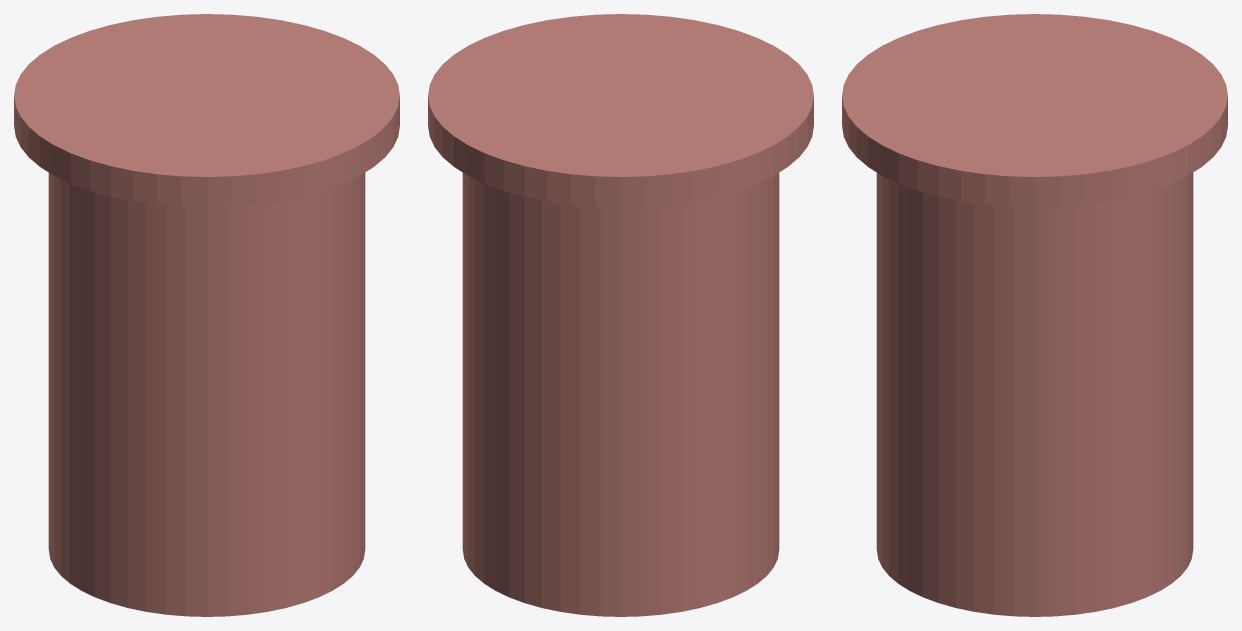
File: eli-side-table-sangria.glb
3 renders of one model, left to right at view 1: azimuth 30°, elevation 25°; view 2: azimuth 150°, elevation 25°; view 3: azimuth 270°, elevation 25°, orthographic.
Parts seen in each view (by area): view 1: geometry_0; view 2: geometry_0; view 3: geometry_0.
Part boxes in pixels (x1,y1,x2,y2): geometry_0: [14, 14, 399, 616]; geometry_0: [428, 14, 813, 616]; geometry_0: [842, 14, 1227, 616].
Bounding box in the file's own units: 0.4 × 0.52 × 0.4.
